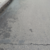others: (1, 1, 12, 13)
